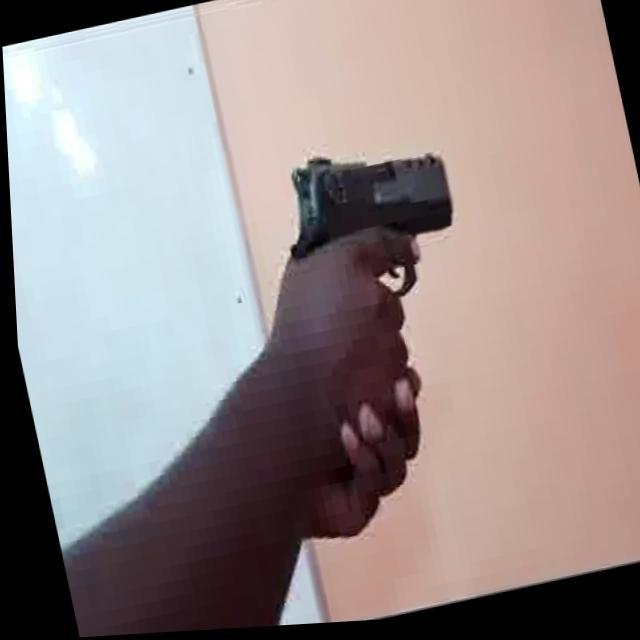weapon: (262, 131, 468, 326)
